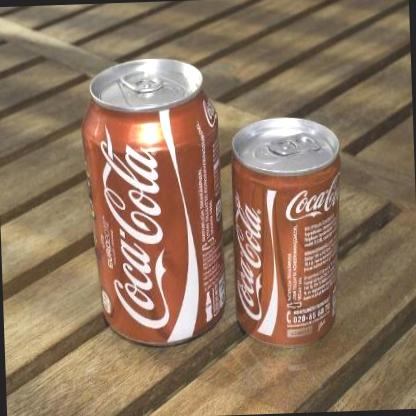alumunium_can: (78, 55, 228, 350), (229, 115, 348, 351)
